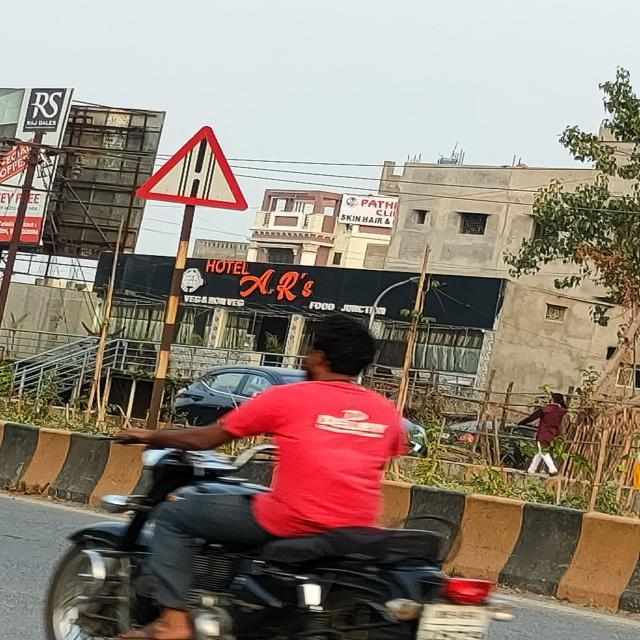gap in median: (134, 126, 250, 213)
